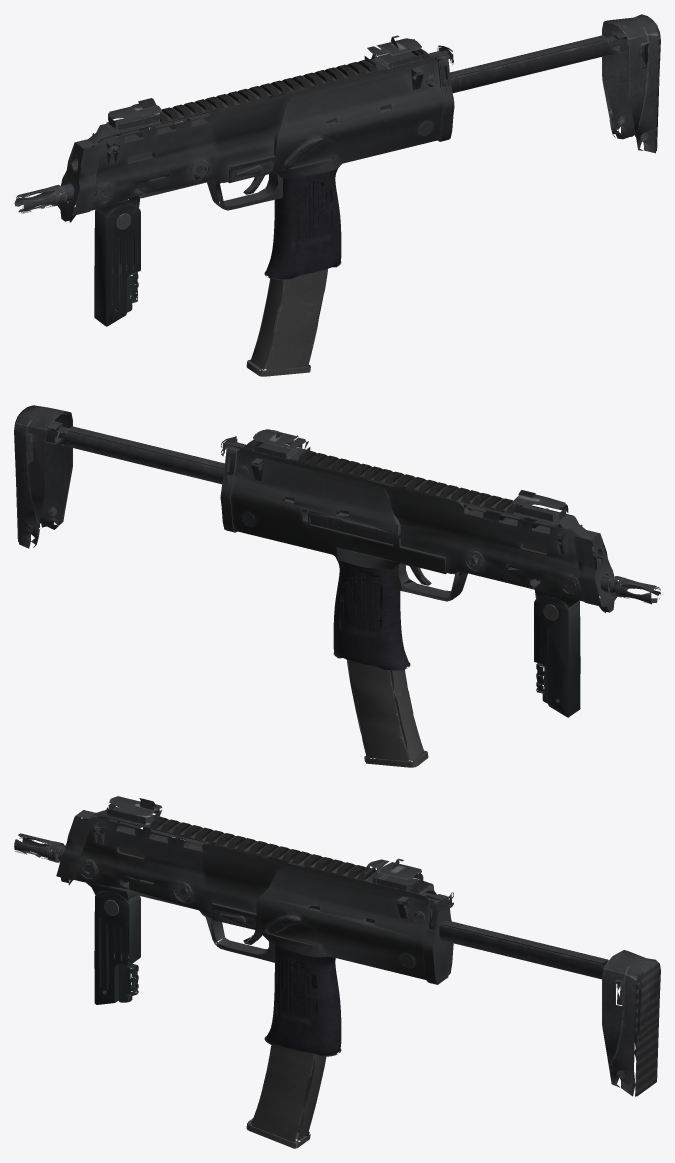
3 renders of one model, top to bottom at view 1: azimuth 30°, elevation 25°; view 2: azimuth 150°, elevation 25°; view 3: azimuth 330°, elevation 25°, orthographic.
Visible parts, largest first — view 1: merged; view 2: merged; view 3: merged.
Boxes of the visible parts, box(x1,y1,x2,y2) form: merged: box(14, 14, 660, 376); merged: box(14, 405, 660, 767); merged: box(14, 796, 660, 1148).
Size of the model in its own units: 4.95 by 2.29 by 0.4024.
Materials: 11 (11 with a texture image).
